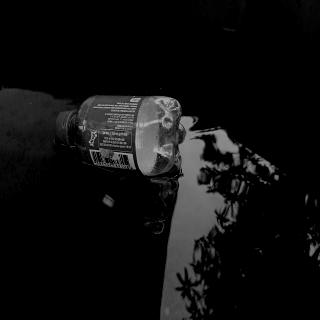bottle: (52, 92, 188, 178)
